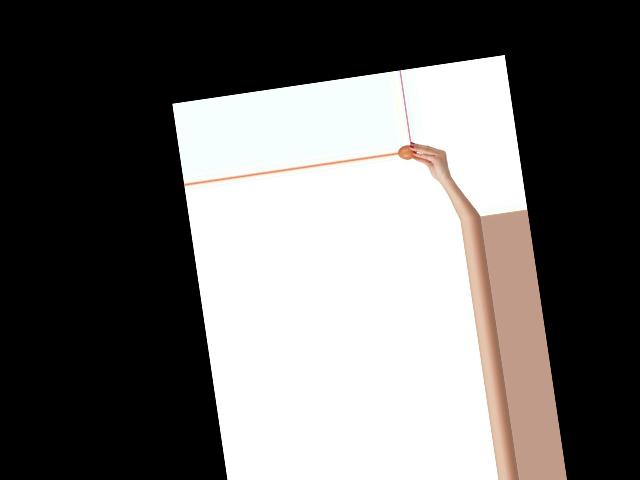egg: (397, 144, 417, 160)
